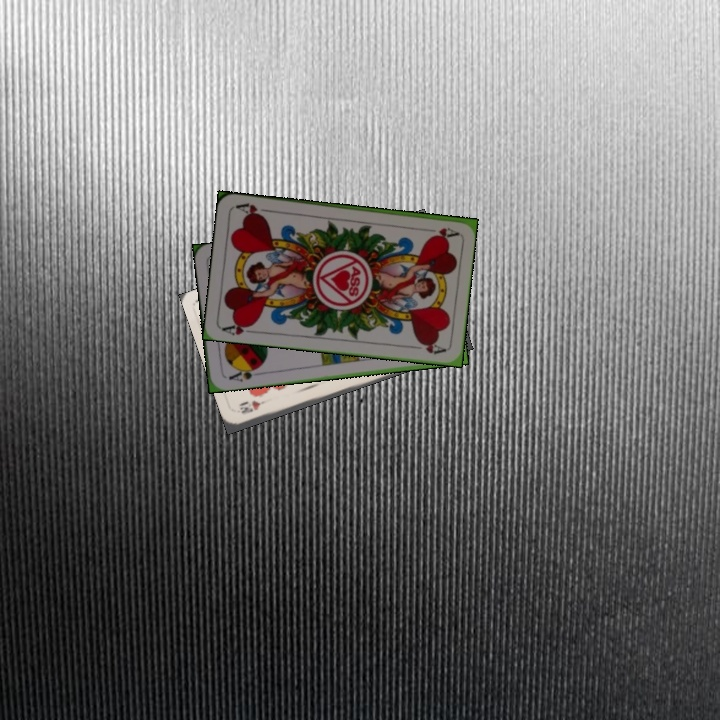H10: (236, 394, 274, 417)
HA: (219, 318, 259, 338), (419, 223, 460, 239)
SA: (225, 362, 263, 384)
